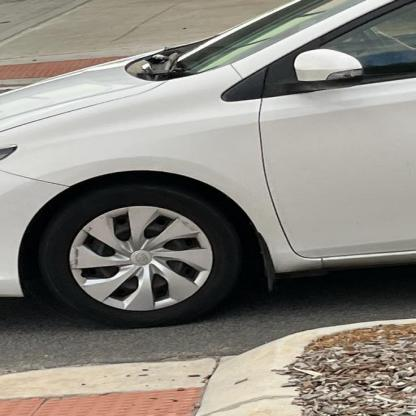Tire: (43, 184, 242, 328)
